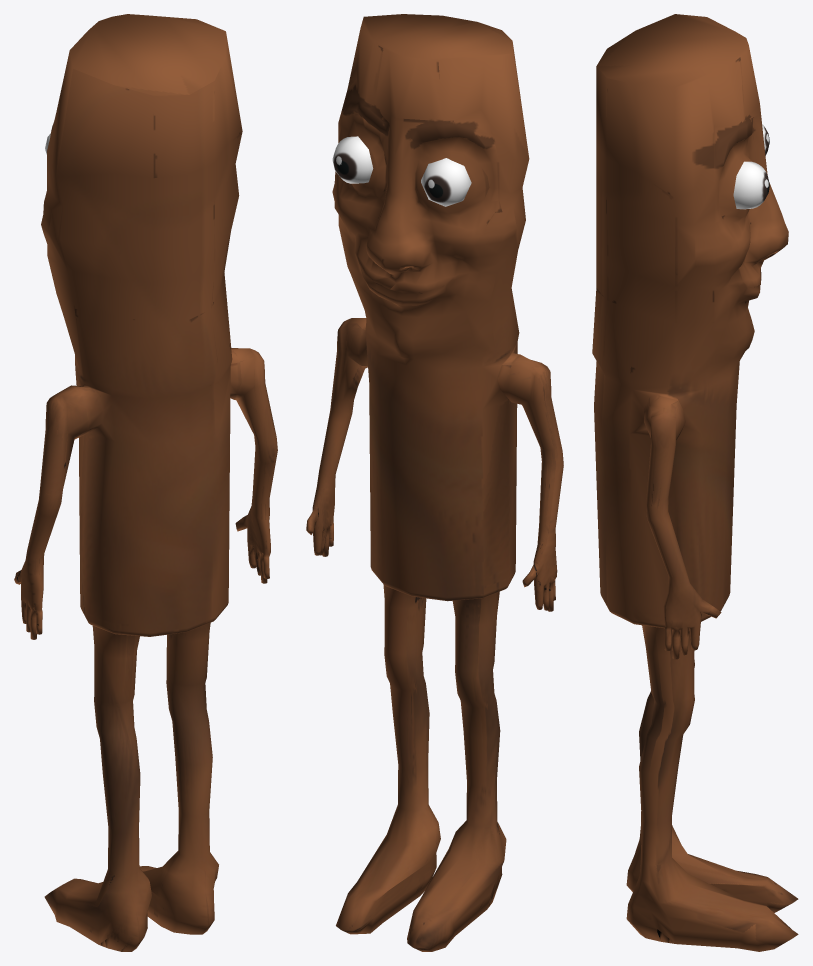
The model's file is tung.fbx.
The picture shows the model from 3 angles, left to right: view 1: azimuth 30°, elevation 25°; view 2: azimuth 150°, elevation 25°; view 3: azimuth 270°, elevation 25°; orthographic projection. The views are drawn at different scales.
Visible parts, largest first — view 1: tung; view 2: tung; view 3: tung.
Part boxes in pixels (x1,y1,x2,y2): tung: [14, 14, 277, 951]; tung: [306, 14, 563, 951]; tung: [592, 14, 798, 951].
Bounding box in the file's own units: 50.54 × 180 × 38.02.
